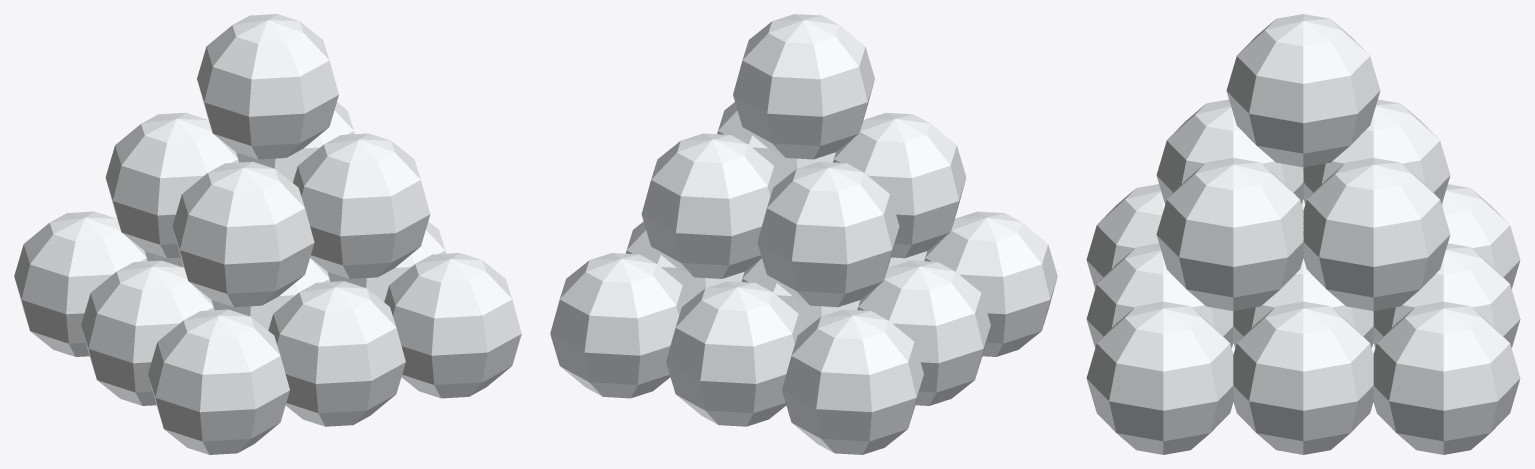
The model's file is SnowballPile.fbx.
3 renders of one model, left to right at view 1: azimuth 30°, elevation 25°; view 2: azimuth 150°, elevation 25°; view 3: azimuth 270°, elevation 25°, orthographic. The views are drawn at different scales.
Parts seen in each view (by area): view 1: SnowballPile; view 2: SnowballPile; view 3: SnowballPile.
Part boxes in pixels (box(x1,y1,x2,y2)): SnowballPile: box(14, 14, 521, 454); SnowballPile: box(550, 14, 1057, 454); SnowballPile: box(1086, 14, 1520, 454).
Bounding box in the file's own units: 3.1 × 2.9 × 3.1.
Materials: 1 (1 with a texture image).
